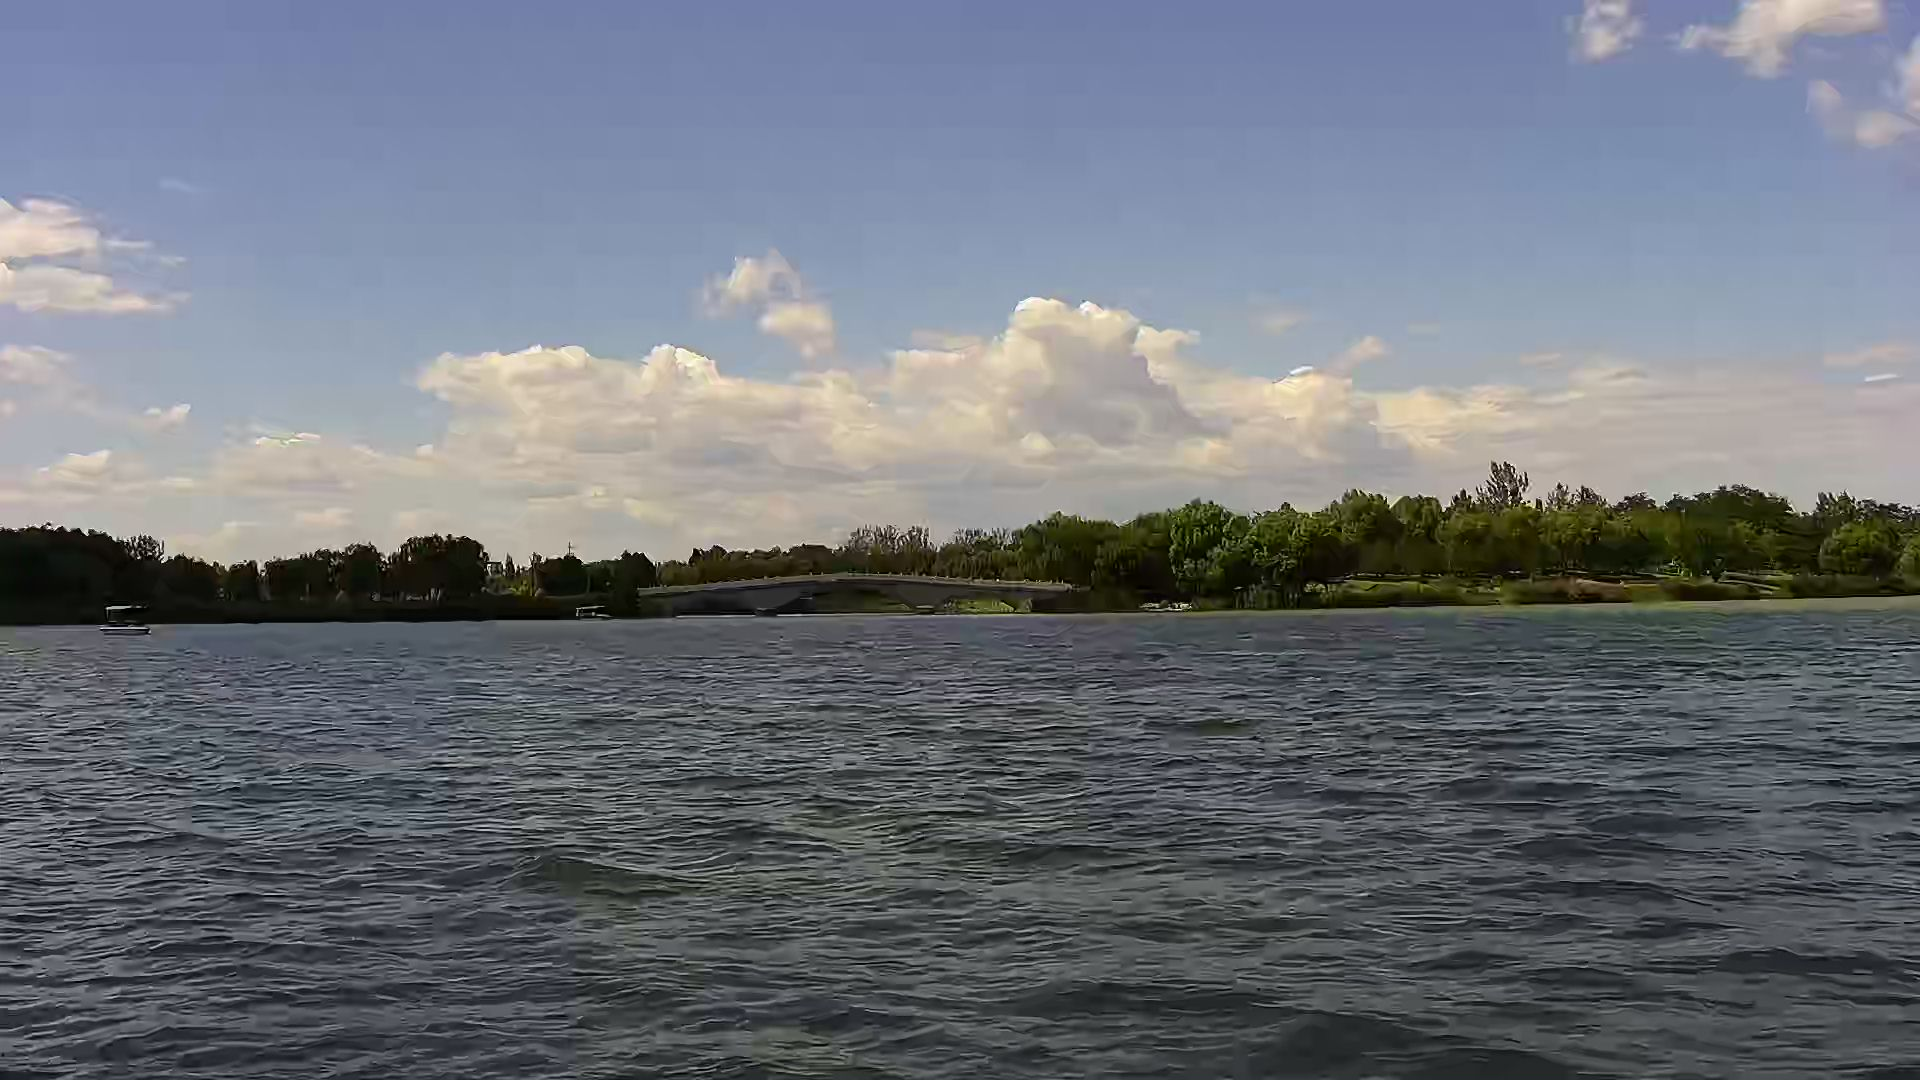boat: (94, 597, 156, 641)
bridge: (618, 575, 1080, 622)
